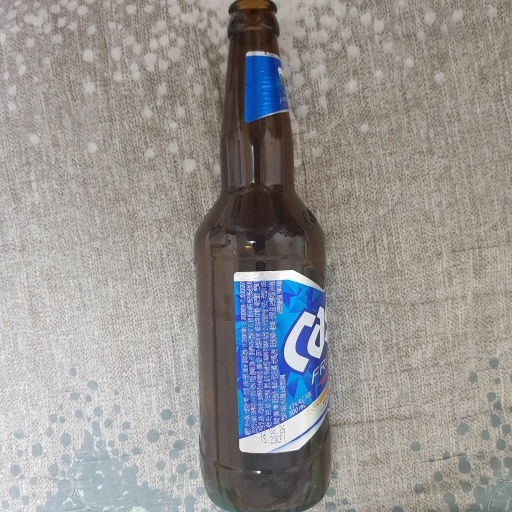Glass_1: (195, 6, 339, 512)
